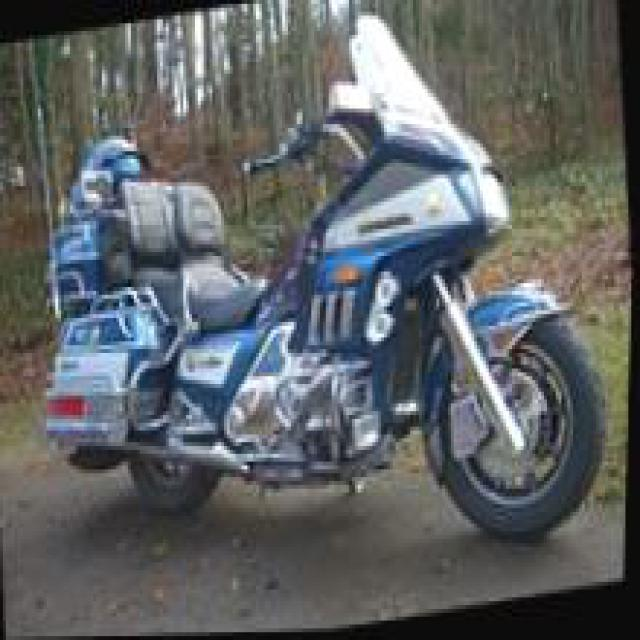Gold Wing: (14, 0, 632, 625)
